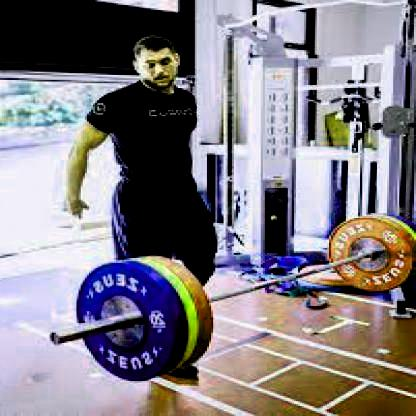Barbell: (43, 330, 63, 348)
